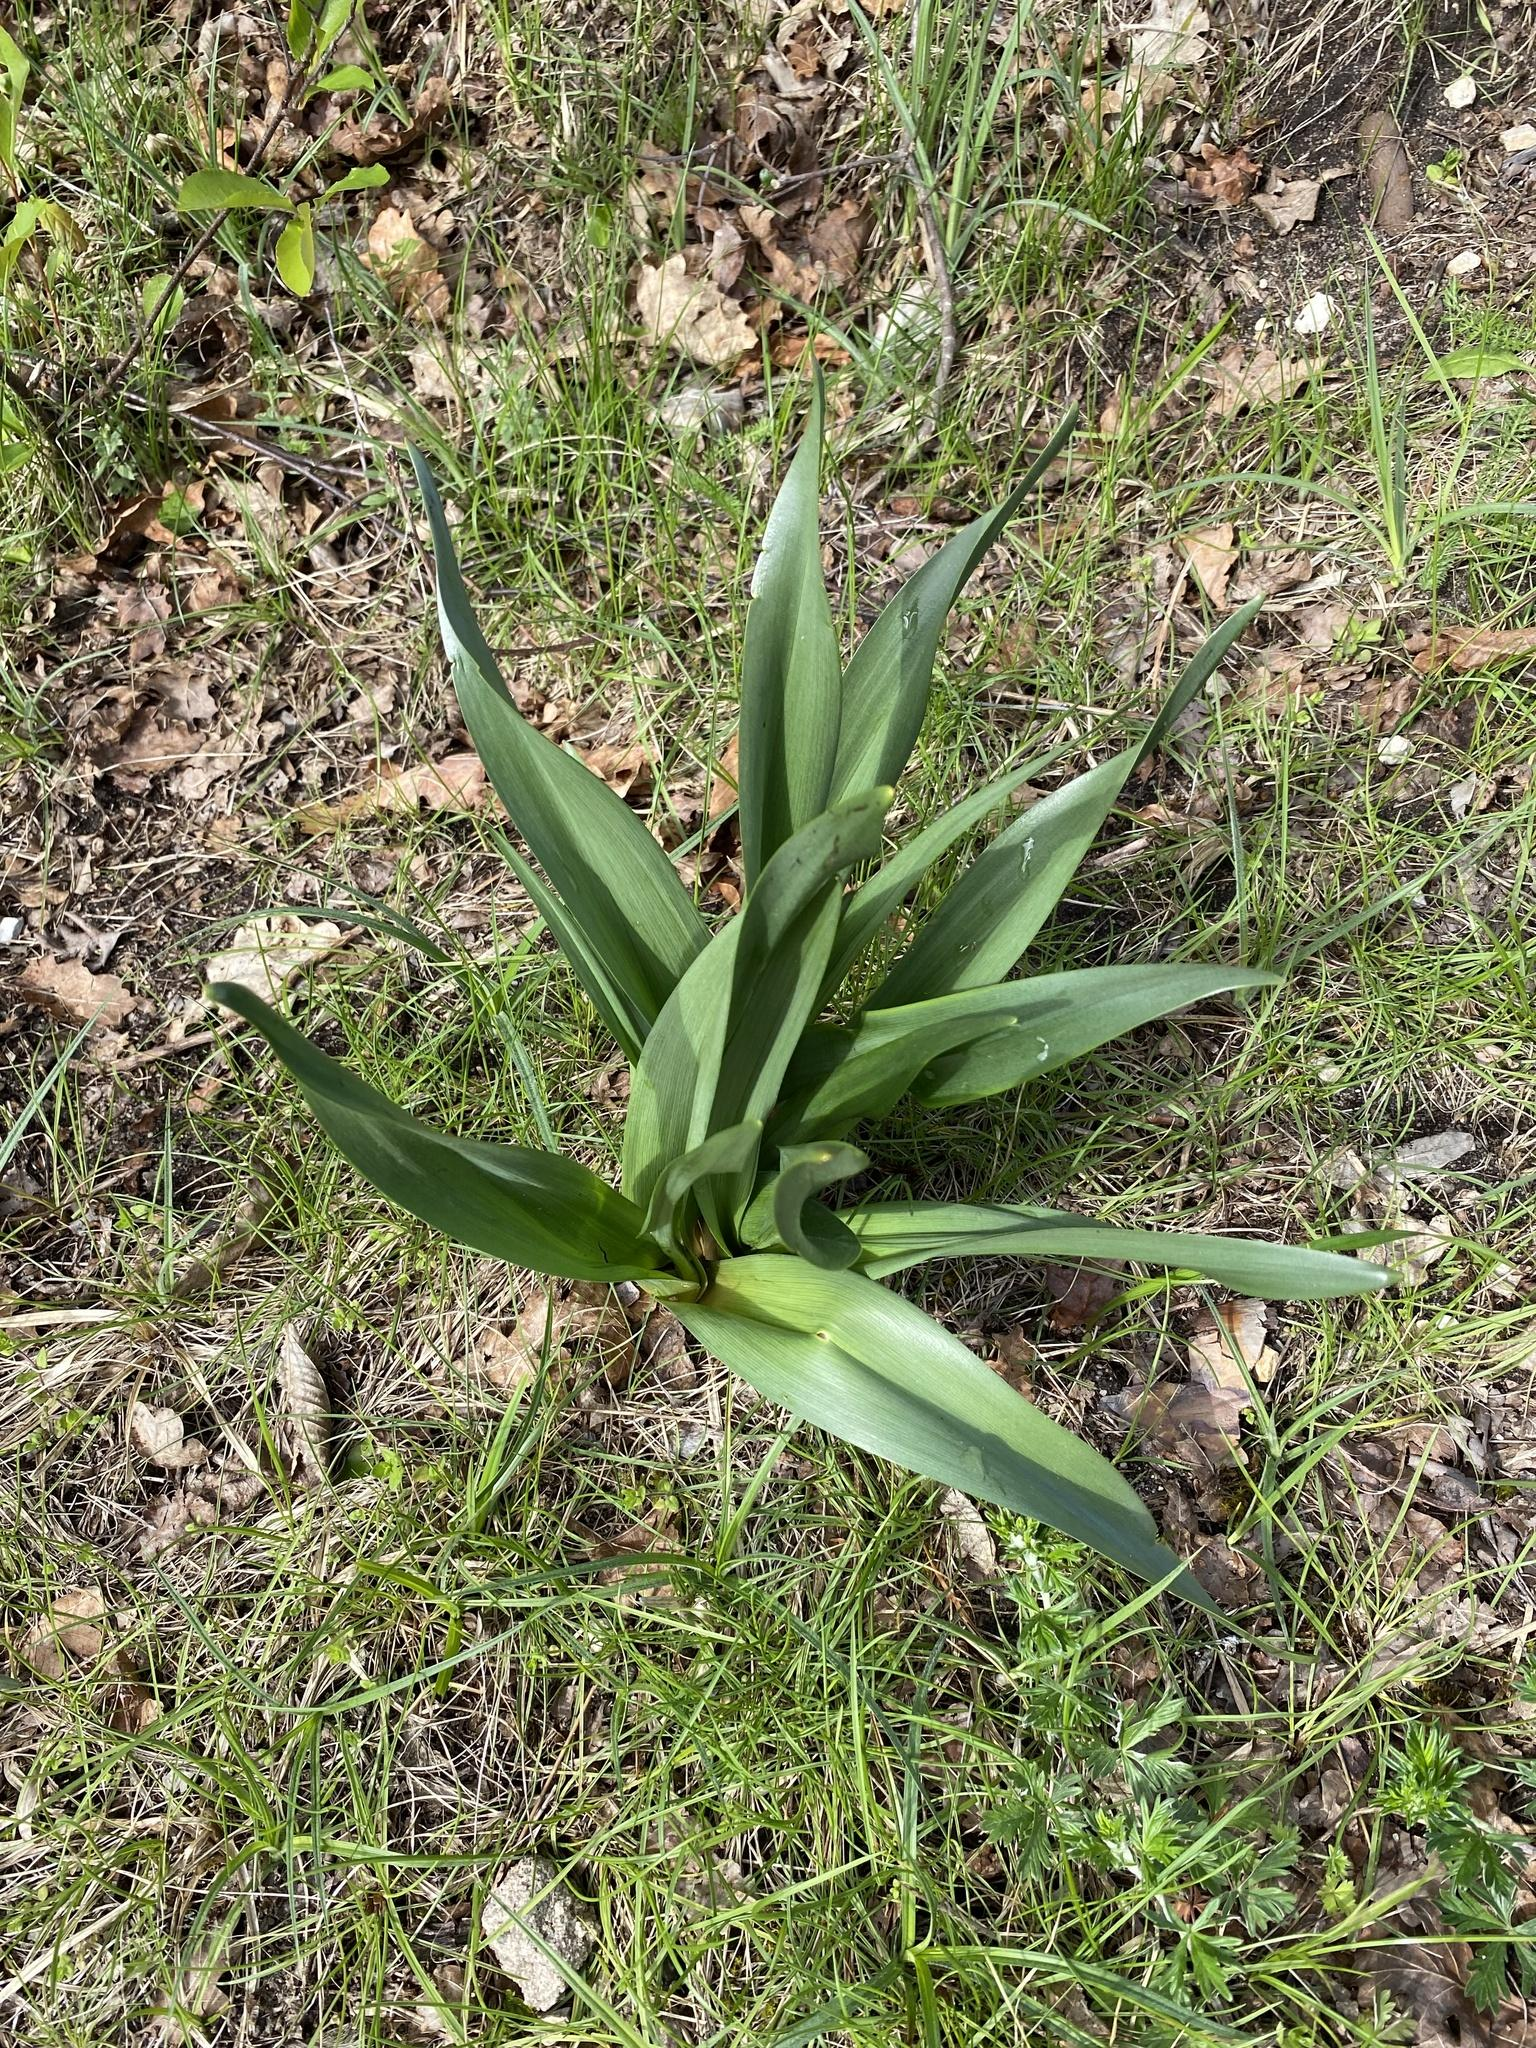Colchicum autumnale L: (242, 390, 1418, 1632)
